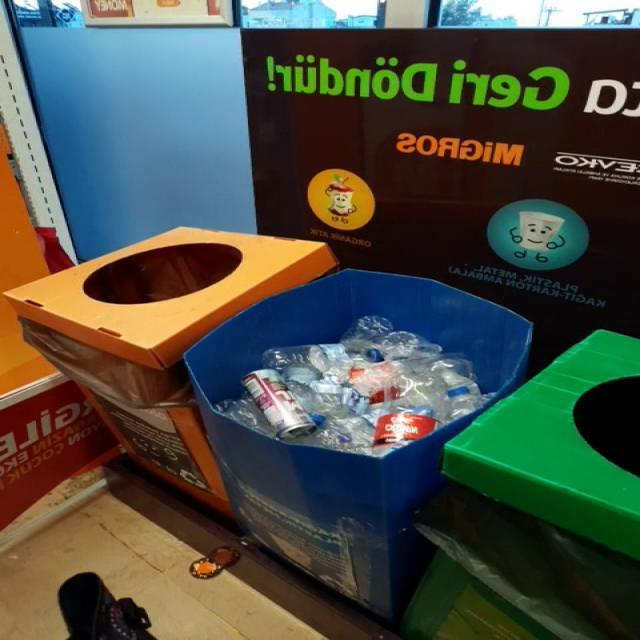Bin: (4, 228, 532, 620)
Metal: (241, 370, 316, 439)
